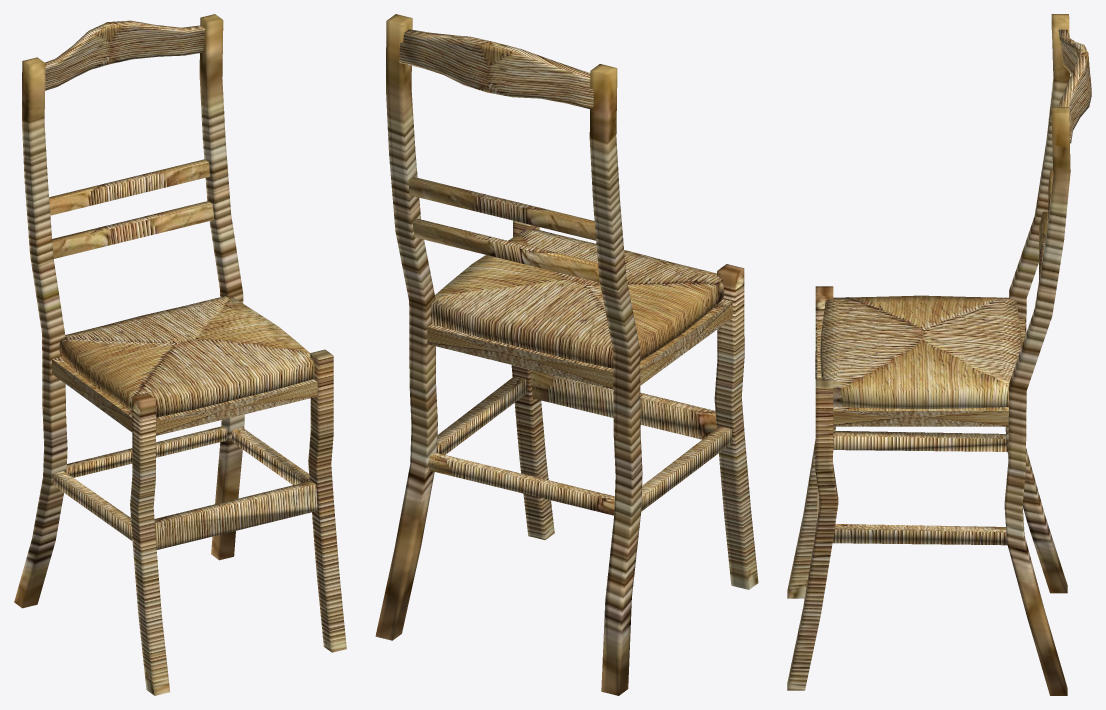
The model's file is Sedia.fbx.
3 renders of one model, left to right at view 1: azimuth 30°, elevation 25°; view 2: azimuth 150°, elevation 25°; view 3: azimuth 270°, elevation 25°, orthographic. The views are drawn at different scales.
Visible parts, largest first — view 1: Struttura, Cuscino, Sottosedia; view 2: Struttura, Cuscino, Sottosedia; view 3: Struttura, Cuscino, Sottosedia.
Boxes of the visible parts, bbox=[...] form: Struttura: bbox=[14, 14, 346, 695]; Cuscino: bbox=[59, 296, 314, 417]; Sottosedia: bbox=[52, 357, 317, 435]; Struttura: bbox=[375, 14, 758, 695]; Cuscino: bbox=[431, 229, 724, 368]; Sottosedia: bbox=[427, 299, 732, 389]; Struttura: bbox=[787, 14, 1091, 695]; Cuscino: bbox=[820, 295, 1021, 408]; Sottosedia: bbox=[817, 319, 1024, 426].
Bounding box in the file's own units: 232 × 575 × 270.
